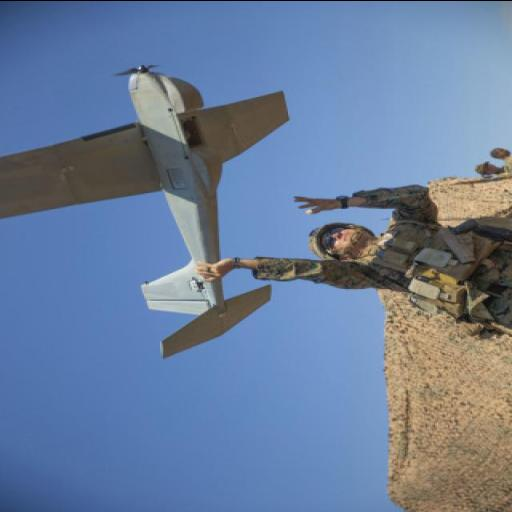uav: (2, 34, 290, 357)
